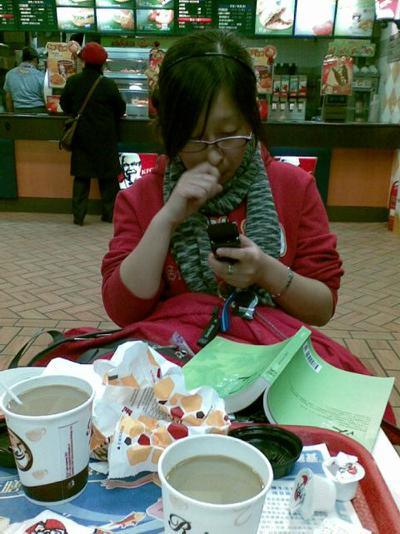person: (102, 28, 343, 330)
